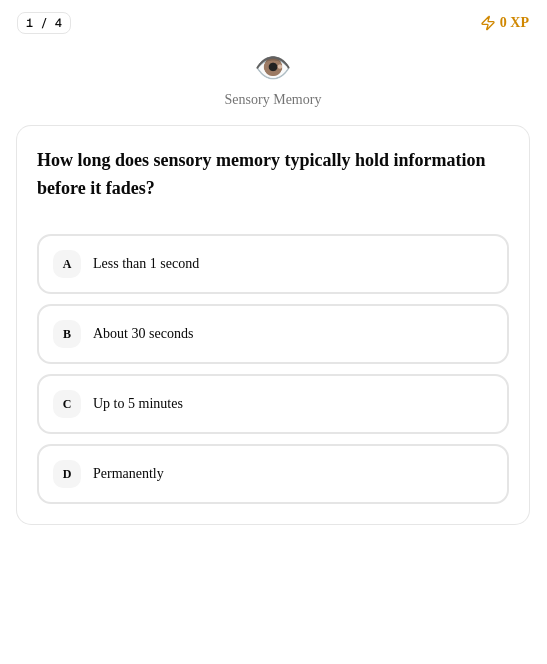
Scenario: QuizView Component › shows hint after wrong answer
This screenshot has width=547, height=664.
What coordinates should you click on to do the following:
click the text "About 30 seconds"
I would click on:
 (143, 334)
Its box is [93,326,193,341].
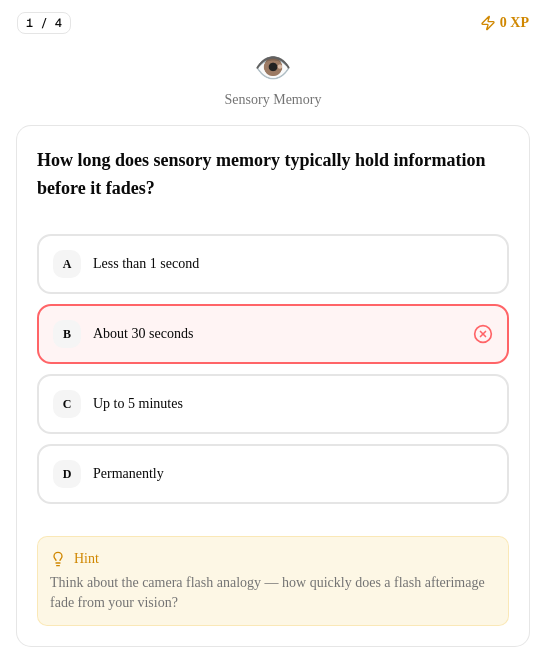
Expected: the text "Hint" is shown, [50,551,99,567]
Expected: the text "camera flash analogy" is shown, [50,575,485,610]
